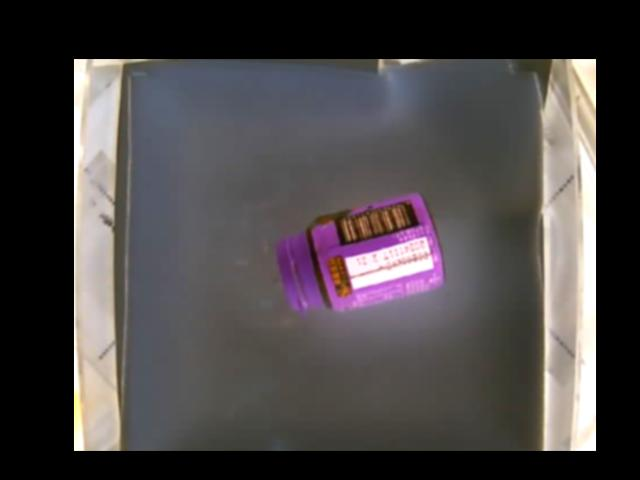Bottle: (278, 191, 447, 314)
